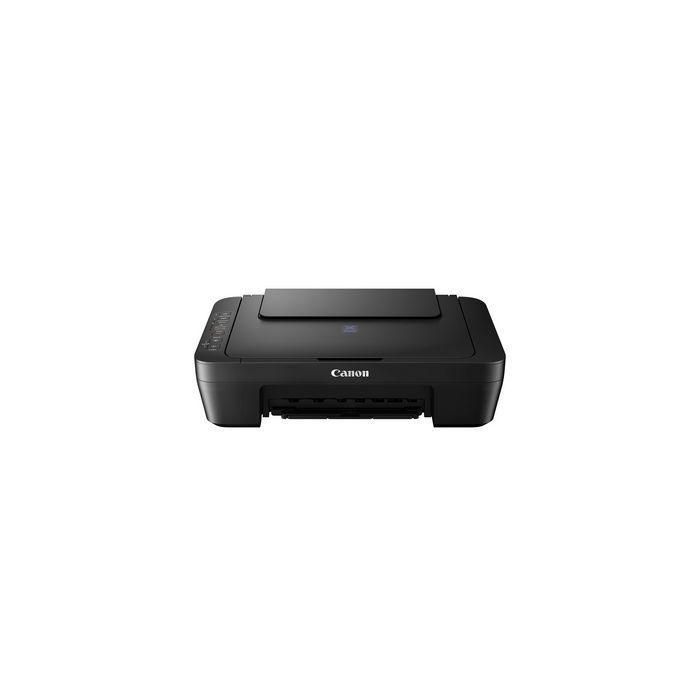Printer: (194, 287, 505, 427)
